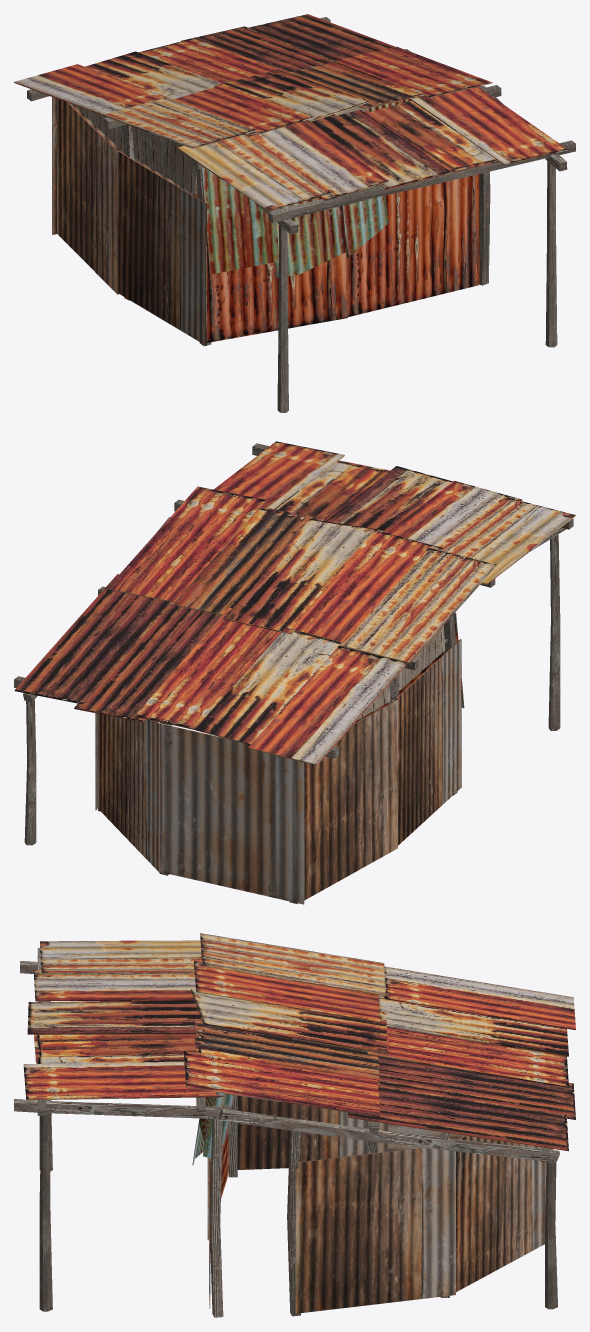
Rendered from low__farm__assembly__dirty__house__poor.glb.
The picture shows the model from 3 angles, top to bottom: view 1: azimuth 30°, elevation 25°; view 2: azimuth 150°, elevation 25°; view 3: azimuth 270°, elevation 25°; orthographic projection. The views are drawn at different scales.
Parts seen in each view (by area): view 1: Cube_0, Cube.002_2, Cube.003_3, Cube.001_1, Cube.041_41, Cube.037_37, Cube.007_7, Cube.039_39, Cube.038_38, Cube.016_16, Cube.040_40, Cube.020_20 (+17 smaller); view 2: Cube.004_4, Cube.003_3, Cube.002_2, Cube.021_21, Cube.020_20, Cube.016_16, Cube.025_25, Cube.005_5, Cube.018_18, Cube.023_23, Cube.022_22, Cube.017_17 (+10 smaller); view 3: Cube.006_6, Cube.005_5, Cube.020_20, Cube.025_25, Cube.021_21, Cube.041_41, Cube.016_16, Cube.018_18, Cube.039_39, Cube.024_24, Cube.023_23, Cube.002_2 (+16 smaller).
Part boxes in pixels (x1,y1,x2,y2): Cube_0: (348, 174, 479, 316); Cube.002_2: (116, 149, 206, 345); Cube.003_3: (57, 99, 118, 294); Cube.001_1: (203, 194, 347, 342); Cube.041_41: (410, 87, 567, 165); Cube.037_37: (177, 134, 331, 211); Cube.007_7: (201, 167, 278, 274); Cube.039_39: (304, 110, 451, 189); Cube.038_38: (252, 121, 388, 200); Cube.016_16: (103, 97, 256, 148); Cube.040_40: (363, 100, 498, 172); Cube.020_20: (333, 47, 492, 97); Cube.004_4: (160, 723, 304, 904); Cube.003_3: (304, 699, 397, 900); Cube.002_2: (392, 639, 461, 845); Cube.021_21: (248, 642, 407, 765); Cube.020_20: (107, 486, 266, 602); Cube.016_16: (341, 548, 496, 663); Cube.025_25: (14, 574, 170, 703); Cube.005_5: (98, 713, 160, 872); Cube.018_18: (223, 519, 383, 634); Cube.023_23: (135, 607, 281, 729); Cube.022_22: (195, 630, 340, 744); Cube.017_17: (287, 530, 443, 642); Cube.006_6: (295, 1147, 455, 1313); Cube.005_5: (456, 1135, 553, 1291); Cube.020_20: (183, 1051, 379, 1117); Cube.025_25: (348, 1086, 568, 1151); Cube.021_21: (378, 966, 575, 1029); Cube.041_41: (23, 1061, 223, 1100); Cube.016_16: (200, 933, 386, 995); Cube.018_18: (191, 989, 388, 1054); Cube.039_39: (27, 1000, 201, 1034); Cube.024_24: (378, 1056, 575, 1119); Cube.023_23: (367, 1027, 568, 1087); Cube.002_2: (237, 1095, 387, 1169).
Bounding box in the file's own units: 4.18 × 2.78 × 6.14.
Materials: 3 (3 with a texture image).
